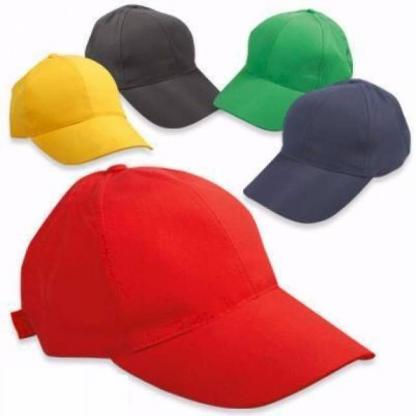cap: (15, 166, 380, 415), (239, 82, 412, 232), (80, 5, 216, 145), (217, 8, 352, 127), (6, 59, 156, 159)
